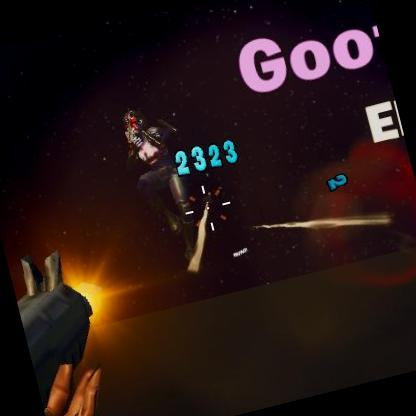person: (110, 96, 210, 253)
